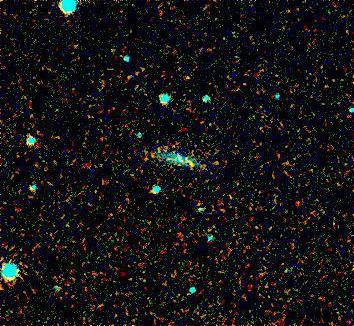star: (176, 151, 206, 181)
